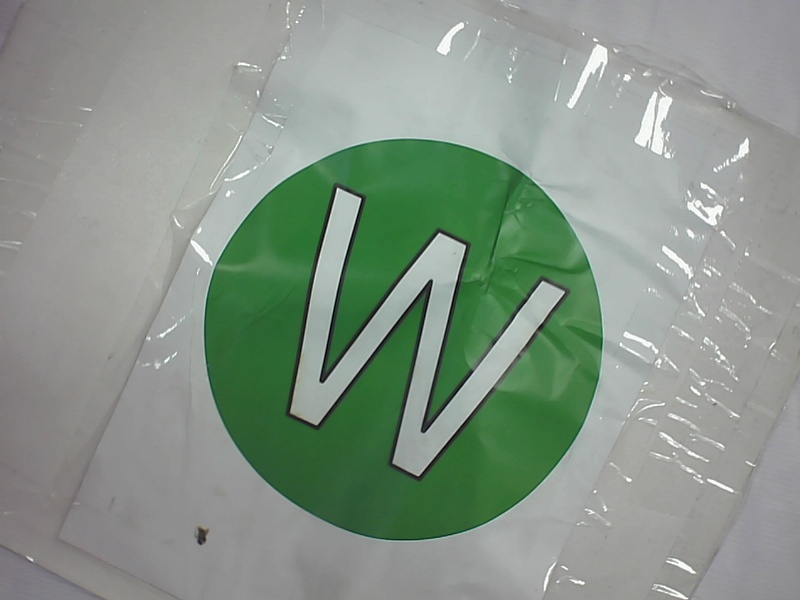areaB: (195, 129, 618, 552)
